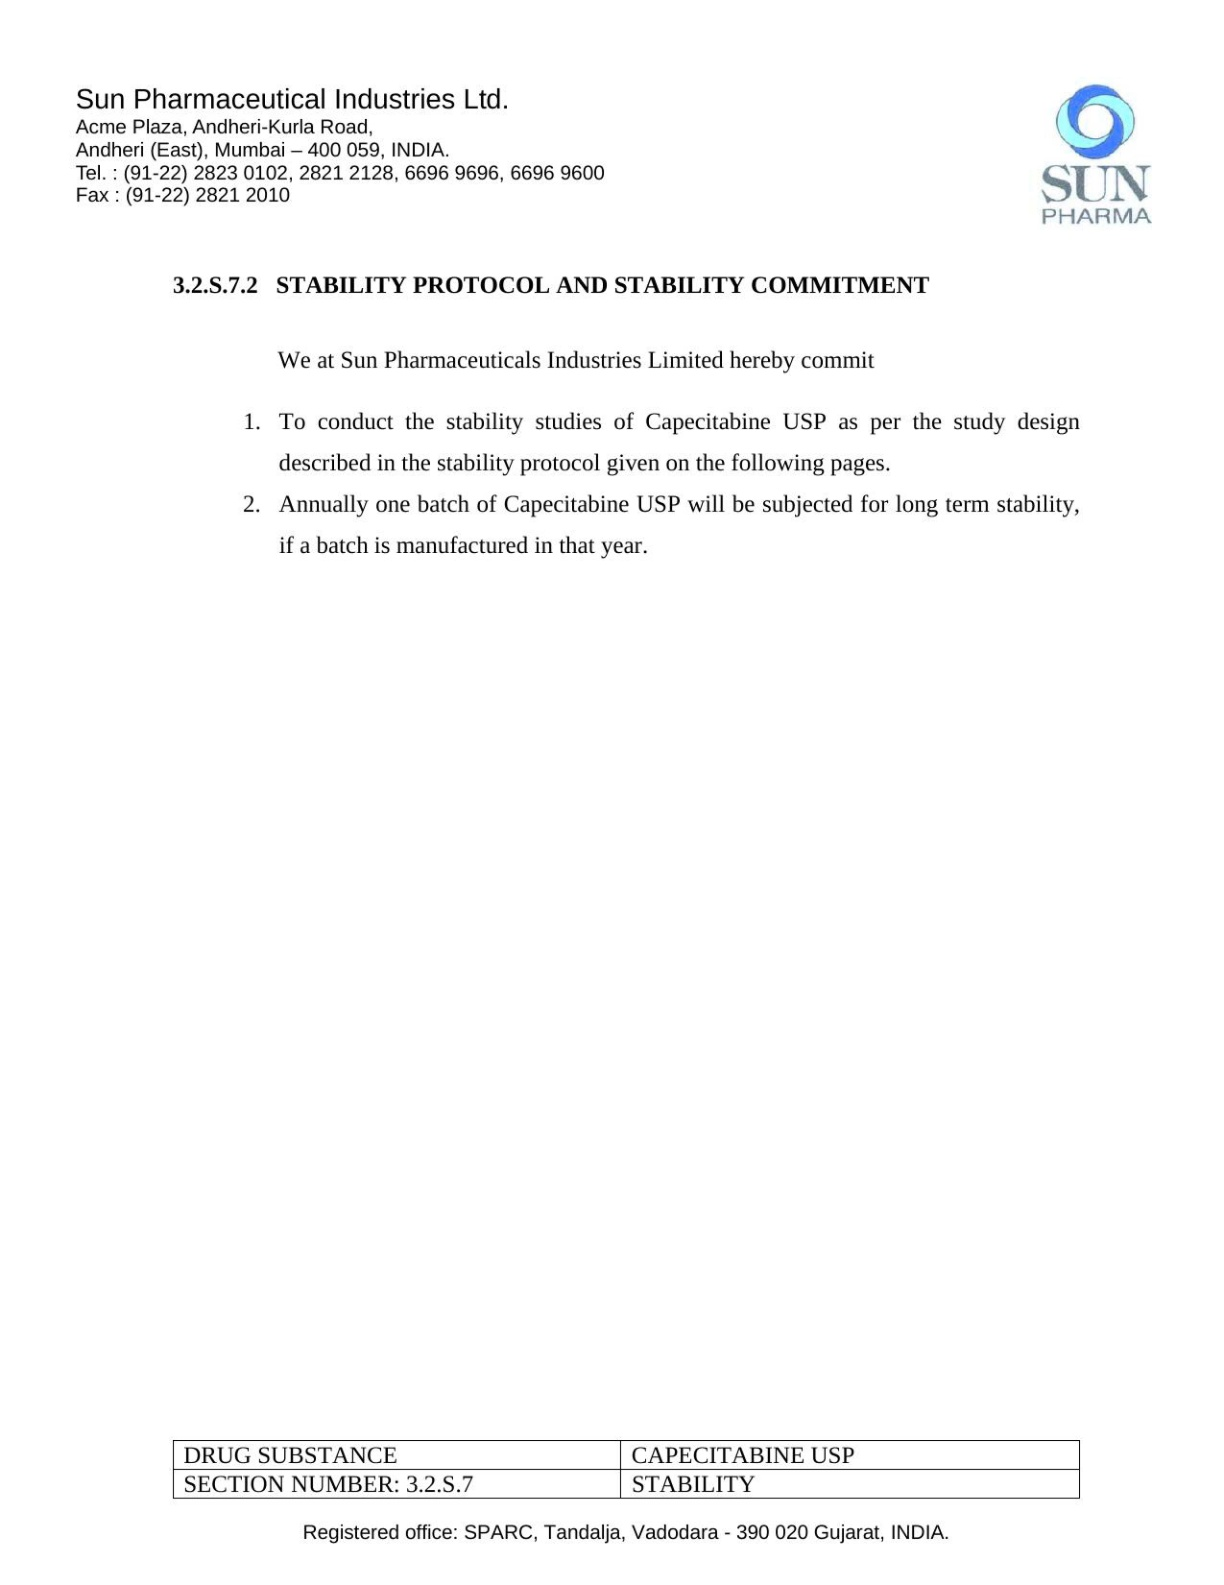full_lined: (172, 1438, 1081, 1500)
